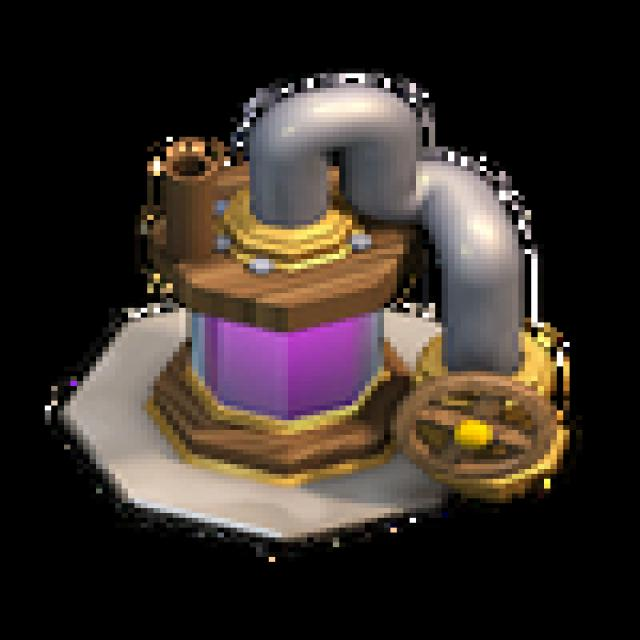elixir_collector: (23, 59, 592, 582)
